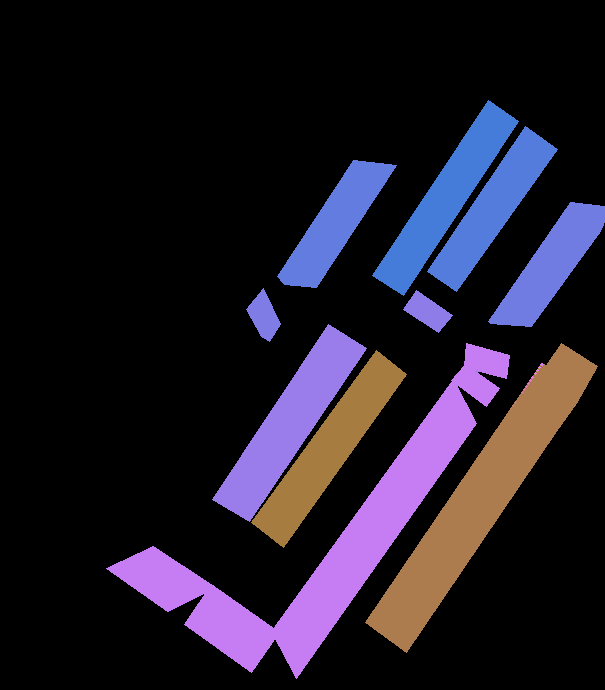parkingspot: (365, 343, 597, 652), (271, 379, 476, 678), (251, 350, 406, 547), (212, 324, 366, 521), (372, 100, 518, 295), (427, 126, 557, 291), (277, 160, 396, 287), (488, 202, 605, 326), (184, 584, 279, 672), (106, 546, 215, 611), (403, 290, 452, 332), (451, 364, 499, 406), (246, 288, 280, 341), (464, 343, 509, 378)
